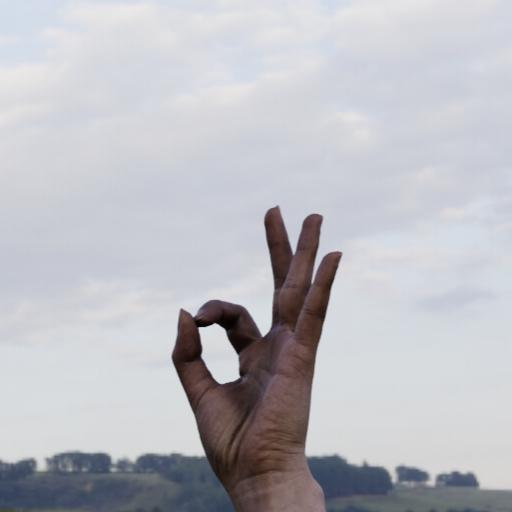F: (144, 196, 380, 512)
